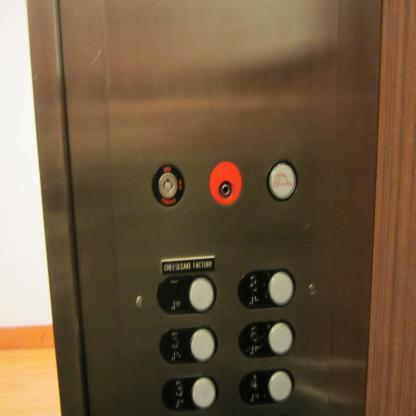3: (161, 372, 219, 414)
4: (238, 367, 295, 407)
5: (158, 325, 219, 365)
6: (237, 318, 297, 360)
7: (154, 271, 218, 316)
8: (236, 267, 296, 310)
hat: (267, 158, 299, 202)
keyhole: (152, 161, 185, 209), (209, 161, 242, 206)
